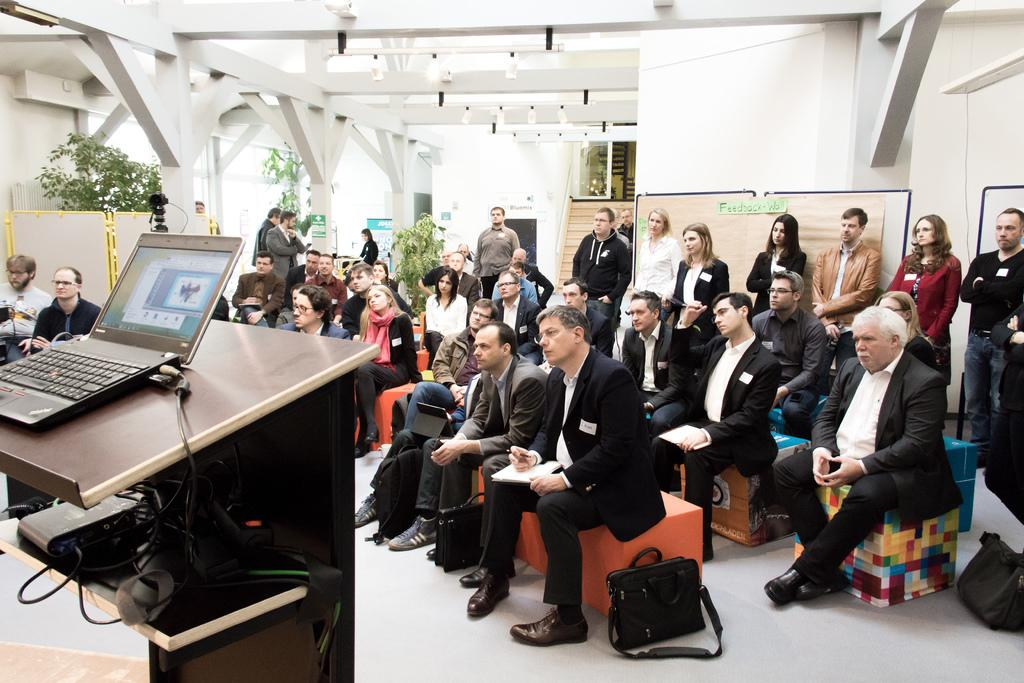Computer-keyboard: (0, 341, 152, 404)
